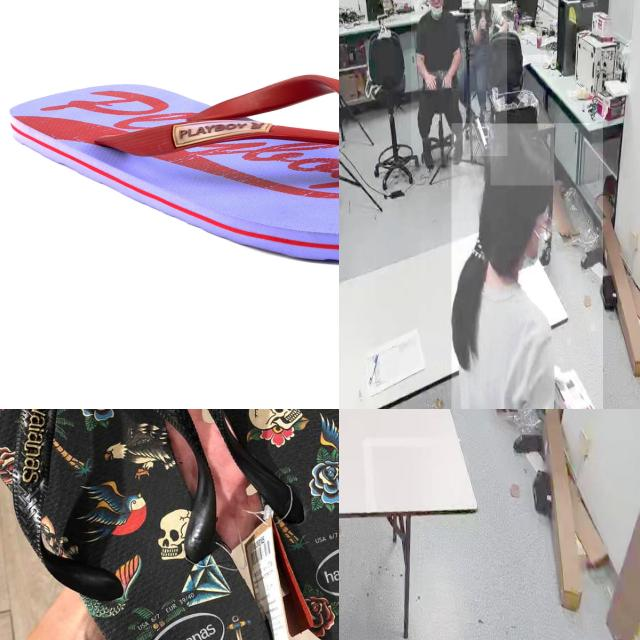Sandals: (0, 409, 339, 640), (8, 73, 339, 266)
face_mask: (476, 0, 489, 10)
face_nomask: (428, 0, 443, 11)
hand_noglove: (425, 72, 437, 91), (477, 13, 487, 30), (442, 72, 452, 88)
head_nohelmet: (490, 124, 554, 186)
person: (451, 123, 603, 409), (411, 0, 464, 165), (469, 0, 507, 156)
